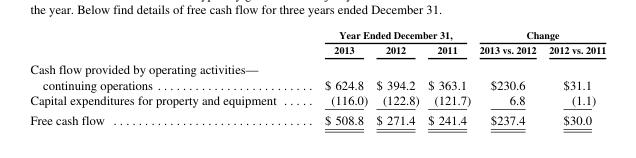table: (29, 28, 605, 126)
table column: (29, 28, 299, 126), (299, 28, 371, 126), (474, 28, 541, 126), (541, 28, 605, 126), (422, 28, 474, 126), (371, 28, 422, 126)
table column header: (29, 28, 605, 58)
table row: (29, 58, 605, 91), (29, 91, 605, 109), (29, 109, 605, 126), (29, 42, 605, 58), (29, 28, 605, 42)
table spanning cell: (299, 28, 474, 42), (474, 28, 605, 42)
